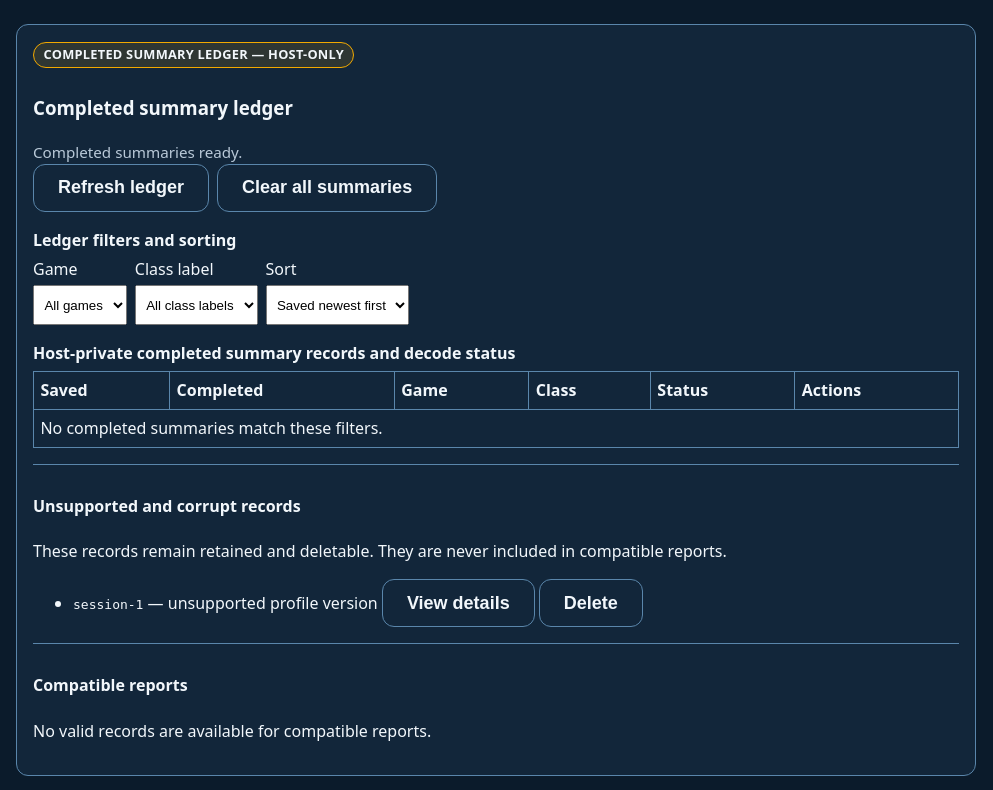
Scenario: CompletedSummaryLedgerPanel › shows bounded Summary V1 detail for unsupported-profile records without enabling labels
The image size is (993, 790).
Step 1. Click the button "View details" → (458, 603), box [382,579,535,627]
(page scrolled)
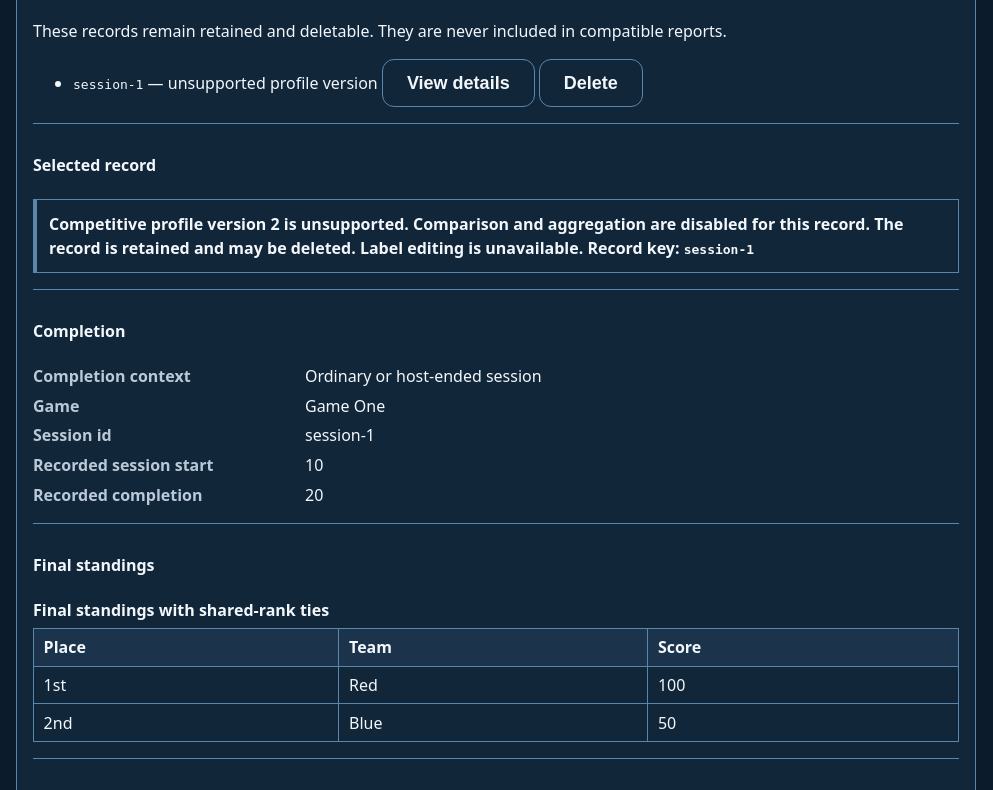
Expected: the field labelled "class label" is not shown
Expected: the message with test id "unsupported-profile-warning" shows "comparison and aggregation are disabled", [49,213,903,259]
Expected: the text with test id "ssp-game-title" reads "Game One", [305,395,385,417]
